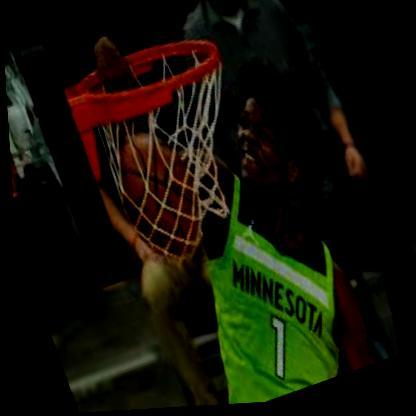basketball: (100, 124, 213, 275)
rim: (56, 24, 233, 139)
